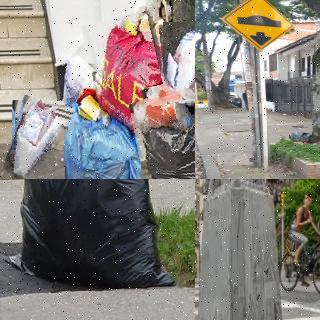Garbage: (0, 179, 177, 291), (89, 13, 176, 161), (57, 97, 129, 179), (135, 86, 195, 179), (7, 97, 69, 179), (161, 20, 195, 100)
